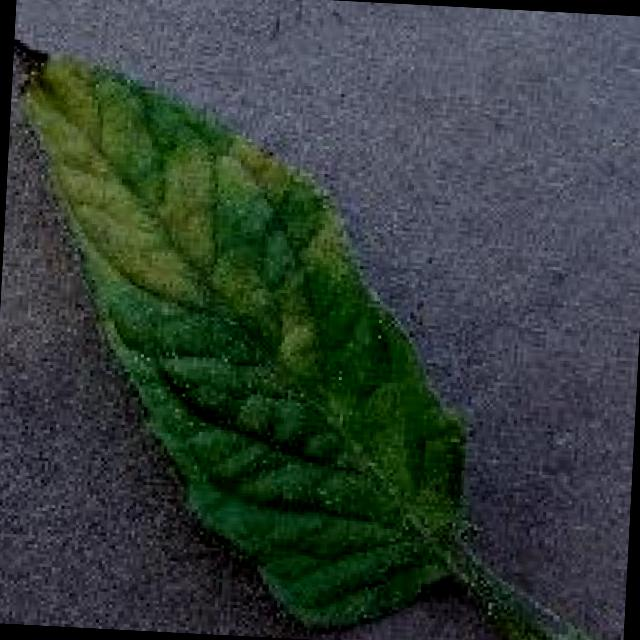leaf mold: (11, 46, 603, 640)
